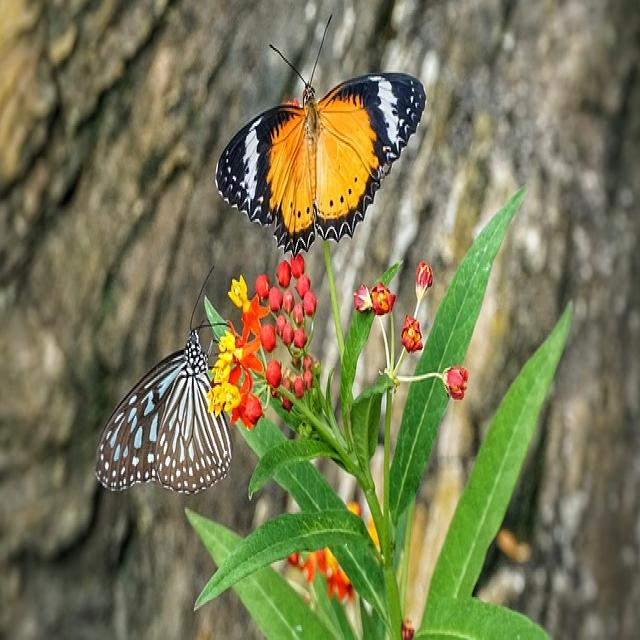butterfly: (215, 73, 427, 257), (96, 332, 234, 499)
